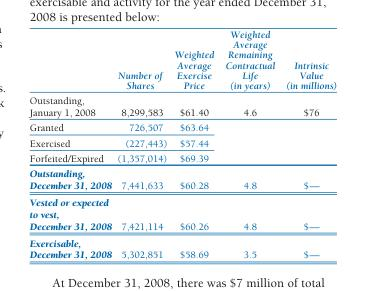table: (28, 28, 336, 260)
table column: (28, 28, 113, 260), (218, 28, 279, 260), (279, 28, 336, 260), (113, 28, 169, 260), (169, 28, 218, 260)
table column header: (28, 28, 336, 92)
table row: (28, 28, 336, 92), (28, 193, 336, 234), (28, 165, 336, 193), (28, 92, 336, 119), (28, 234, 336, 260), (28, 134, 336, 150), (28, 119, 336, 134), (28, 150, 336, 165)
